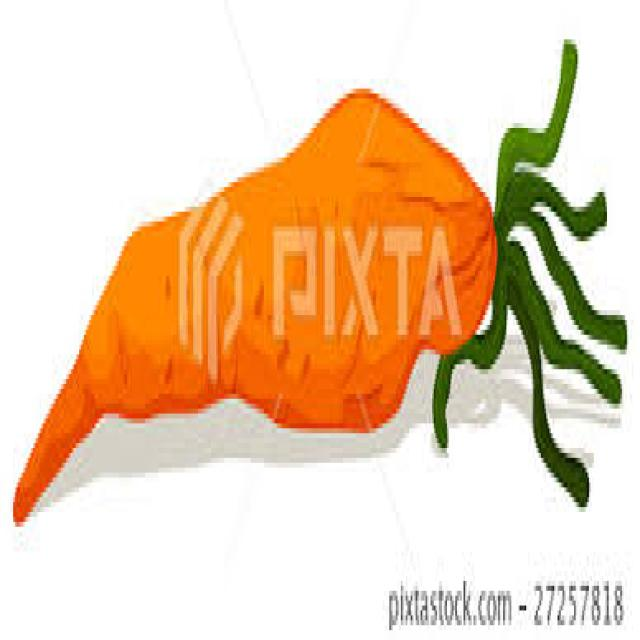Stale_Carrot: (22, 81, 556, 555)
